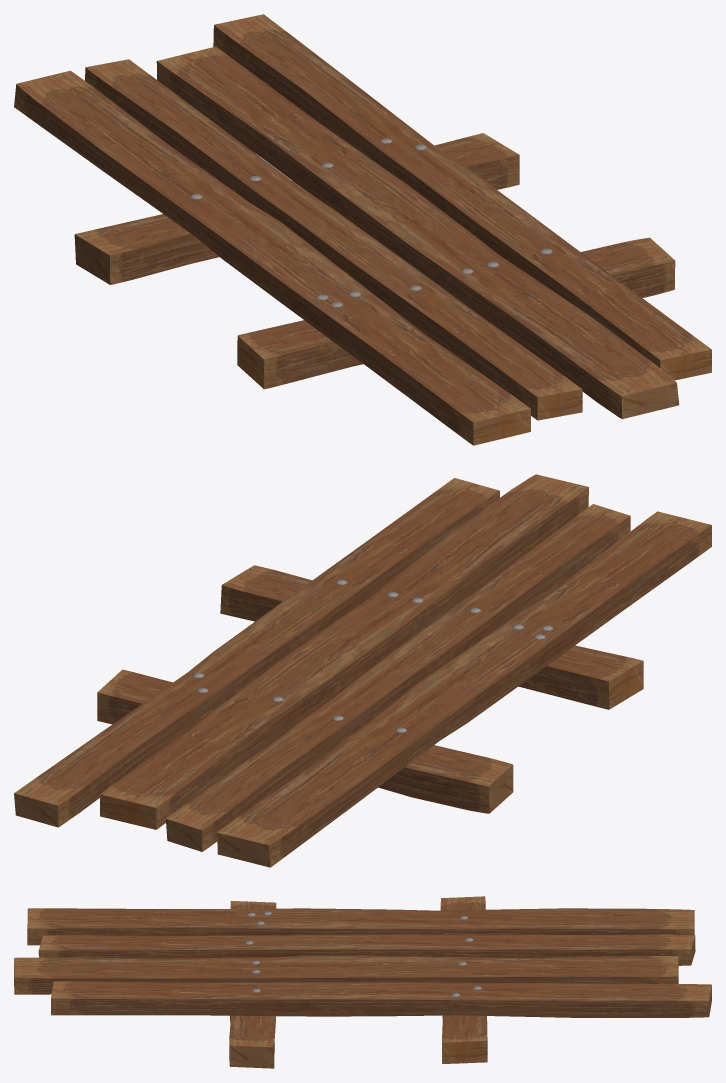
The model's file is SM_Farm_Scaffold_03.fbx.
3 views of the same model, one above another, from view 1: azimuth 30°, elevation 25°; view 2: azimuth 150°, elevation 25°; view 3: azimuth 270°, elevation 25° (orthographic). The views are drawn at different scales.
Parts seen in each view (by area): view 1: SM_Farm_Scaffold_03_LOD0; view 2: SM_Farm_Scaffold_03_LOD0; view 3: SM_Farm_Scaffold_03_LOD0.
Part boxes in pixels (box(x1,y1,x2,y2)): SM_Farm_Scaffold_03_LOD0: box(14, 14, 711, 445); SM_Farm_Scaffold_03_LOD0: box(14, 474, 711, 867); SM_Farm_Scaffold_03_LOD0: box(14, 896, 711, 1068).
Bounding box in the file's own units: 196 × 24.91 × 383.
